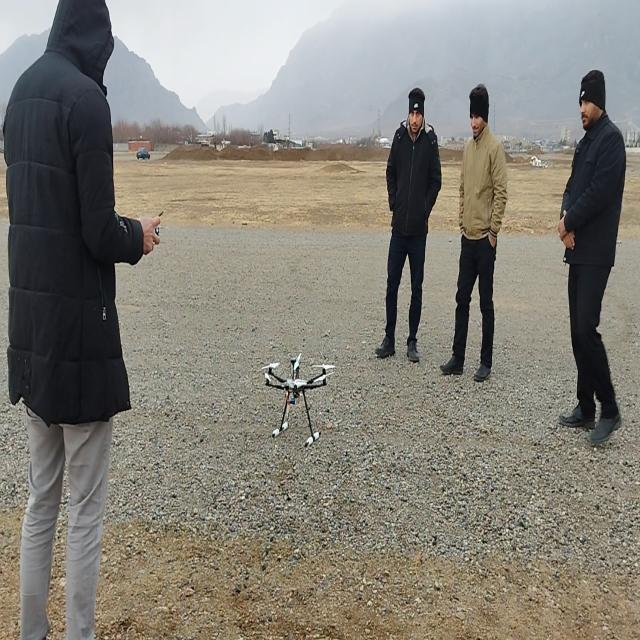drone: (262, 353, 335, 449)
